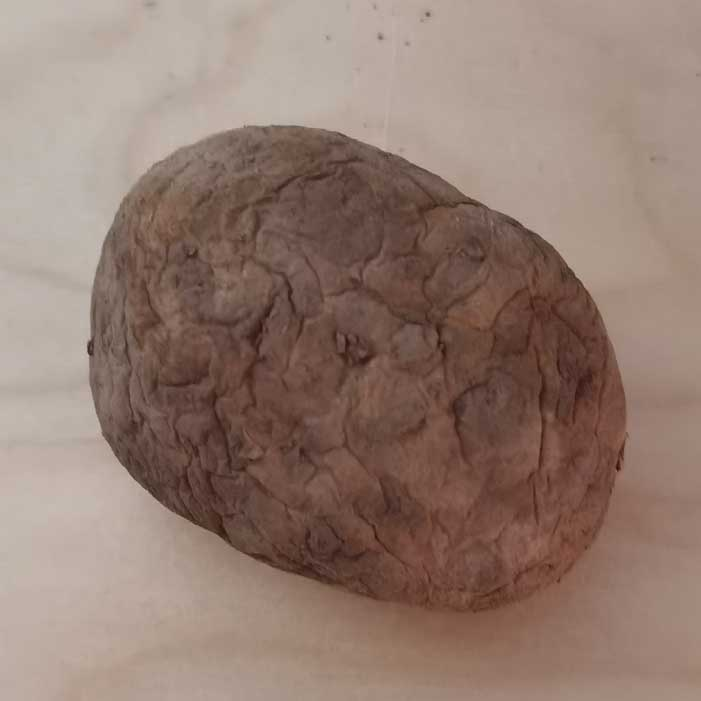Kartoffel: (91, 125, 627, 613)
